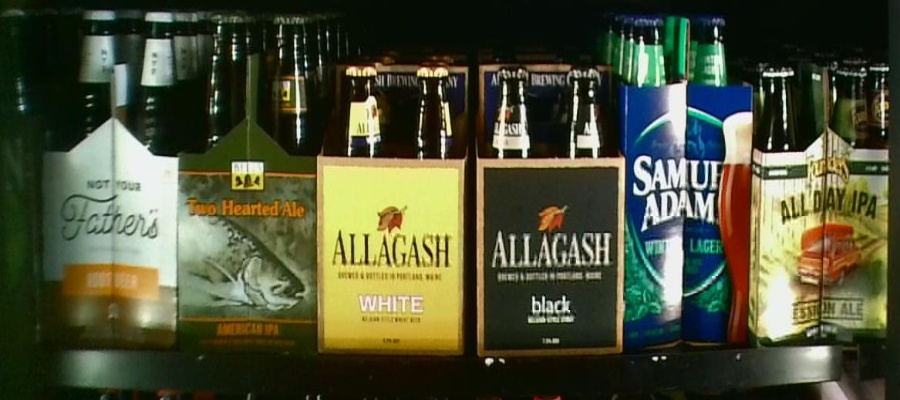bottle: (319, 37, 472, 354), (41, 3, 179, 345), (185, 7, 320, 352), (474, 52, 622, 354), (625, 5, 750, 355), (754, 51, 888, 338)
